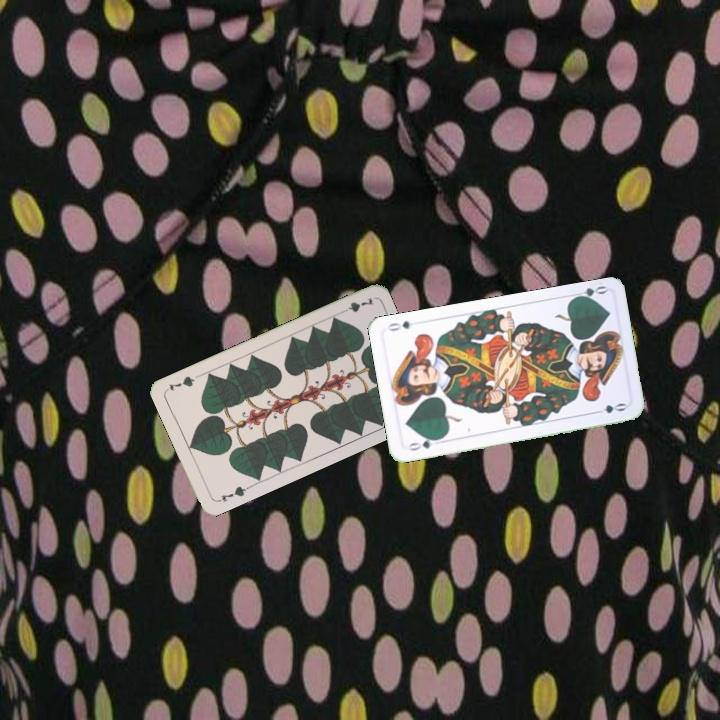G7: (336, 293, 376, 316), (213, 482, 252, 505)
GO: (568, 282, 609, 303), (403, 434, 443, 453)
